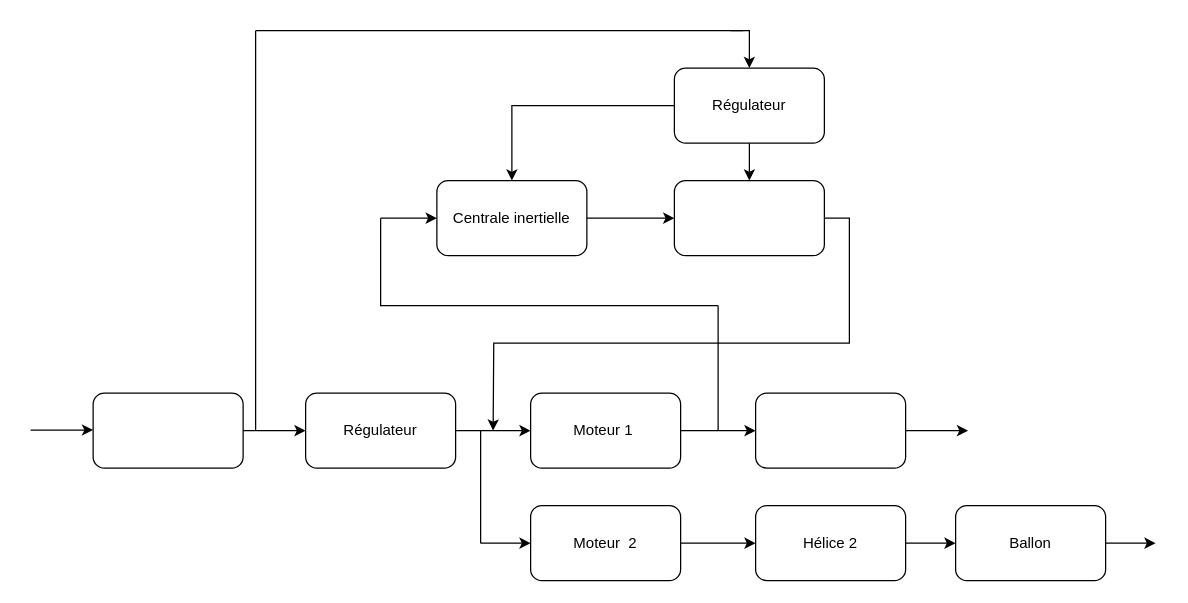
The diagram is 1188 pixels wide and 603 high, and some of its shapes have lost their labels. The shapes that lost their labels are listed below. From the top down, each one's centre as x and y in pixels, then its label:
At point (748, 217): "Microprocesseur".
At point (167, 430): "Batterie 11,1V".
At point (830, 430): "Hélice 1".
